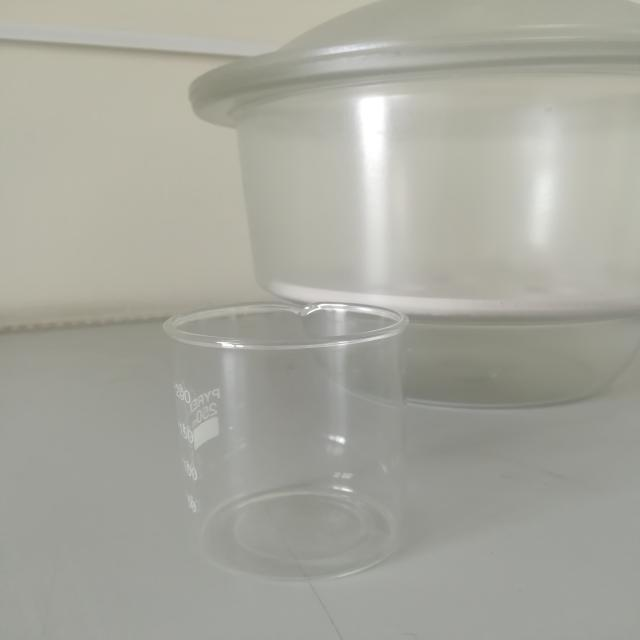Beaker: (132, 281, 464, 607)
